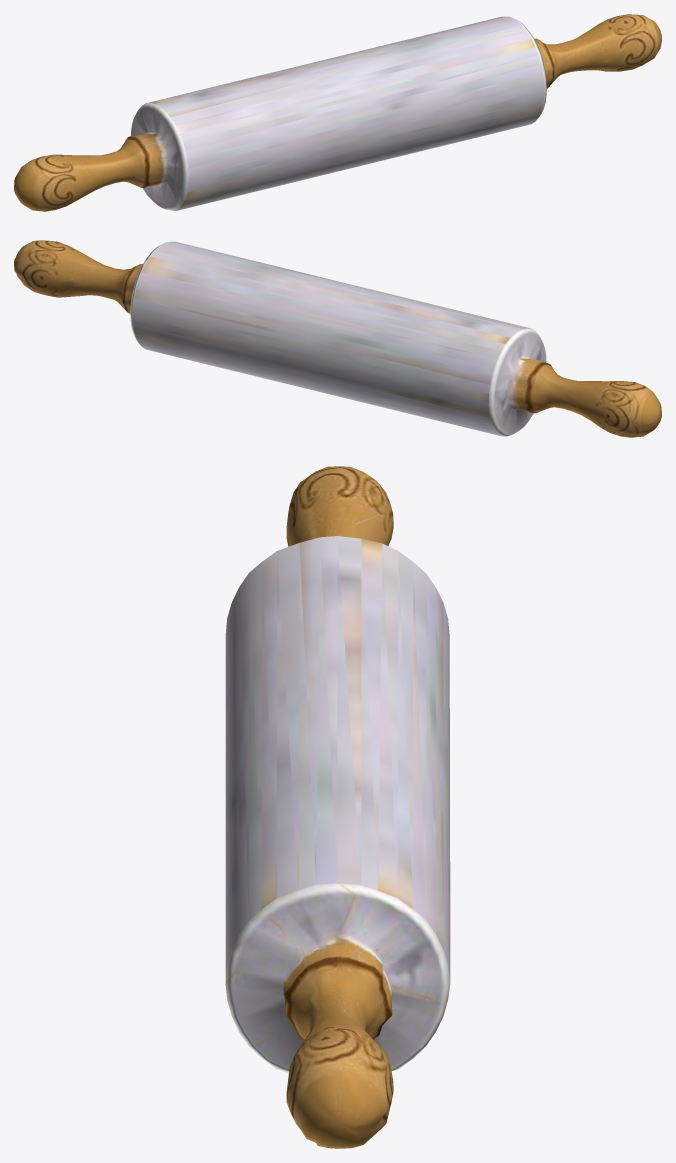
The model's file is item-marblePin.glb.
3 views of the same model, one above another, from view 1: azimuth 30°, elevation 25°; view 2: azimuth 150°, elevation 25°; view 3: azimuth 270°, elevation 25° (orthographic). The views are drawn at different scales.
Size of the model in its own units: 0.9585 by 0.1431 by 0.1455.
Materials: 1 (1 with a texture image).
